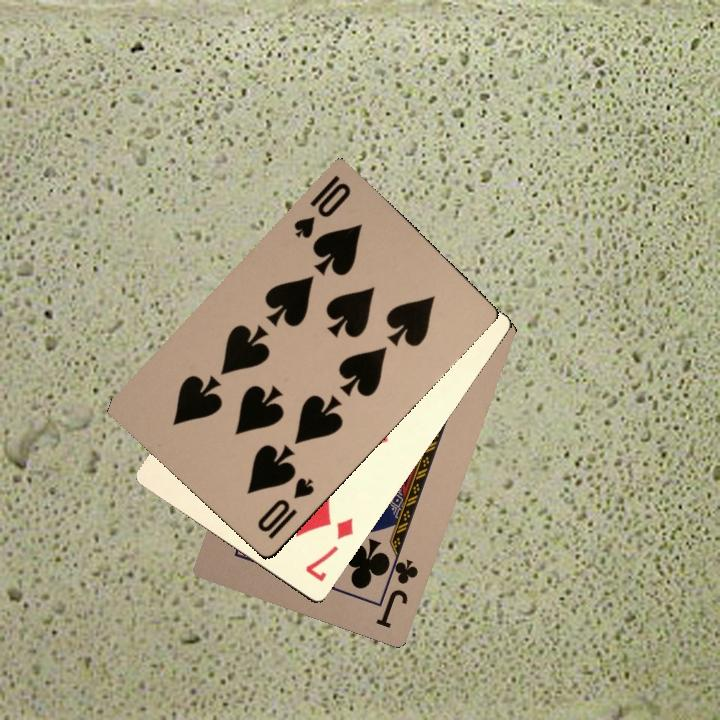10s: (289, 171, 353, 241), (253, 473, 317, 542)
7d: (301, 514, 356, 585)
Jc: (372, 548, 421, 631)
